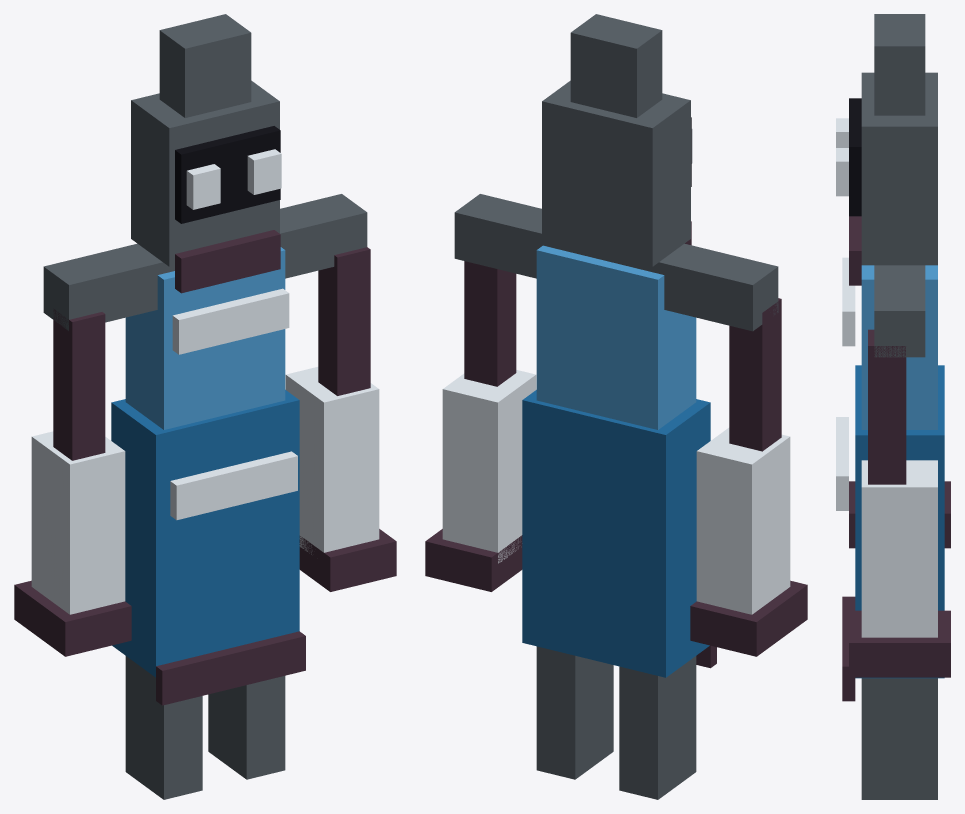
Rendered from stormcaller.gltf.
3 views of the same model, side by side, from view 1: azimuth 30°, elevation 25°; view 2: azimuth 150°, elevation 25°; view 3: azimuth 270°, elevation 25° (orthographic).
Parts seen in each view (by area): view 1: 05_grave_robe, 11_shroud_torso, 06_bell_left, 07_bell_right, 15_cowl, 13_yoke_level, 19_cowl_peak, 00_left_shin, 09_bell_strap_left, 10_bell_strap_right, 01_right_shin, 02_hem_lip (+8 smaller); view 2: 05_grave_robe, 11_shroud_torso, 15_cowl, 06_bell_left, 13_yoke_level, 07_bell_right, 00_left_shin, 01_right_shin, 19_cowl_peak, 09_bell_strap_left, 10_bell_strap_right, 03_bell_lip_left (+1 smaller); view 3: 07_bell_right, 15_cowl, 01_right_shin, 10_bell_strap_right, 19_cowl_peak, 11_shroud_torso, 04_bell_lip_right, 13_yoke_level, 05_grave_robe, 16_hollow, 08_rib_lower, 12_rib_upper (+5 smaller).
Boxes of the visible parts, left/top/right/bottom form: 05_grave_robe: left=111, top=390, right=299, bottom=677; 11_shroud_torso: left=125, top=247, right=285, bottom=429; 06_bell_left: left=31, top=431, right=125, bottom=614; 07_bell_right: left=285, top=367, right=379, bottom=554; 15_cowl: left=131, top=80, right=279, bottom=266; 13_yoke_level: left=43, top=194, right=367, bottom=330; 19_cowl_peak: left=159, top=14, right=251, bottom=117; 00_left_shin: left=125, top=656, right=202, bottom=799; 09_bell_strap_left: left=53, top=309, right=105, bottom=460; 10_bell_strap_right: left=318, top=247, right=370, bottom=395; 01_right_shin: left=208, top=676, right=285, bottom=779; 02_hem_lip: left=156, top=631, right=305, bottom=705; 05_grave_robe: left=522, top=390, right=710, bottom=677; 11_shroud_torso: left=536, top=245, right=696, bottom=429; 15_cowl: left=542, top=80, right=690, bottom=266; 06_bell_left: left=696, top=427, right=790, bottom=614; 13_yoke_level: left=454, top=194, right=778, bottom=331; 07_bell_right: left=442, top=370, right=536, bottom=563; 00_left_shin: left=619, top=656, right=696, bottom=799; 01_right_shin: left=536, top=646, right=613, bottom=779; 19_cowl_peak: left=570, top=14, right=662, bottom=117; 09_bell_strap_left: left=729, top=298, right=781, bottom=451; 10_bell_strap_right: left=464, top=261, right=516, bottom=386; 03_bell_lip_left: left=690, top=580, right=807, bottom=656; 07_bell_right: left=861, top=460, right=937, bottom=637; 15_cowl: left=861, top=72, right=937, bottom=265; 01_right_shin: left=861, top=678, right=937, bottom=799; 10_bell_strap_right: left=868, top=329, right=906, bottom=484; 19_cowl_peak: left=874, top=14, right=925, bottom=115; 11_shroud_torso: left=861, top=265, right=937, bottom=429; 04_bell_lip_right: left=849, top=610, right=950, bottom=677; 13_yoke_level: left=874, top=265, right=925, bottom=357; 05_grave_robe: left=855, top=365, right=944, bottom=678; 16_hollow: left=849, top=98, right=861, bottom=216; 08_rib_lower: left=836, top=417, right=848, bottom=510; 12_rib_upper: left=842, top=257, right=855, bottom=346.
Bounding box in the file's own units: 0.9375 × 2 × 0.2812.
